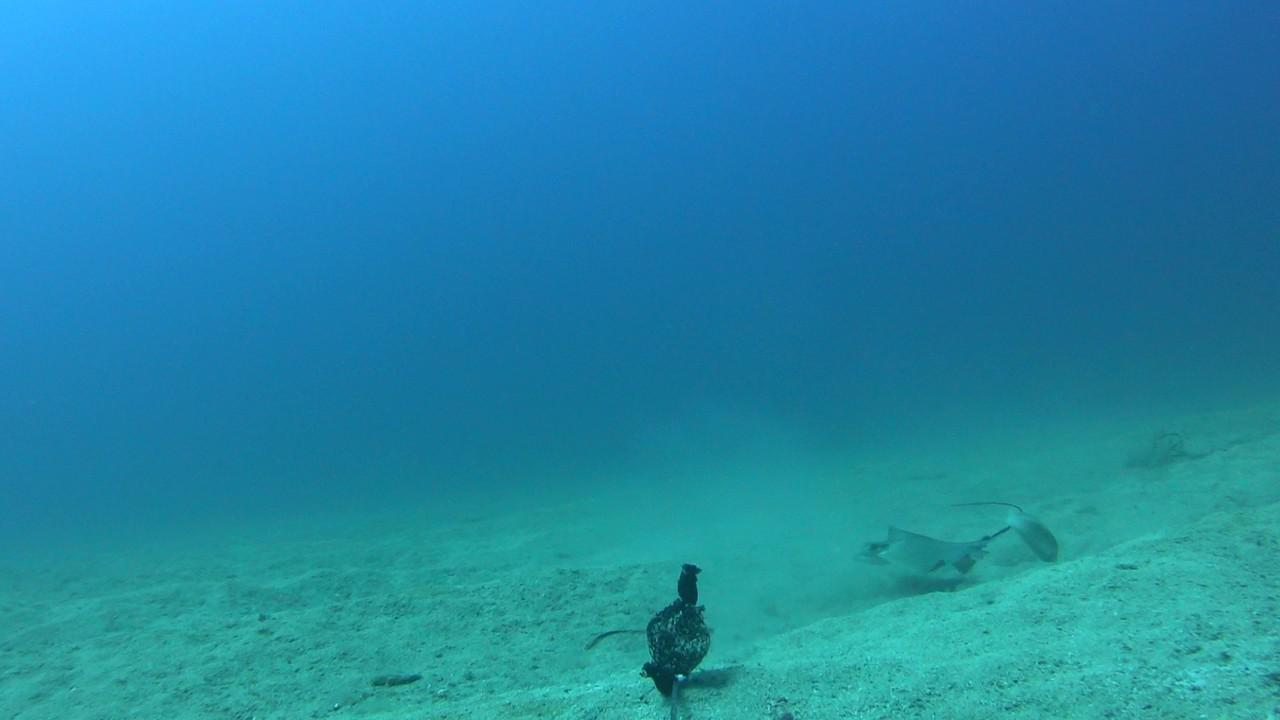myliobatis: (847, 481, 1032, 587)
